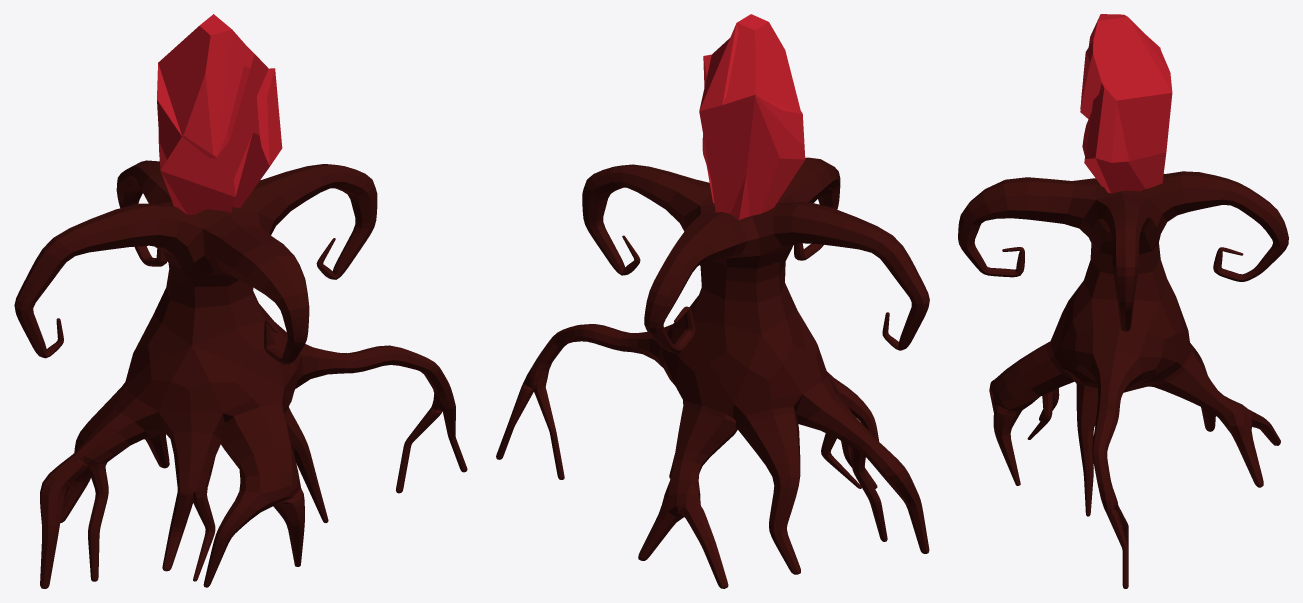
Rendered from arvorecristal2.fbx.
The picture shows the model from 3 angles, left to right: view 1: azimuth 30°, elevation 25°; view 2: azimuth 150°, elevation 25°; view 3: azimuth 270°, elevation 25°; orthographic projection. The views are drawn at different scales.
Parts seen in each view (by area): view 1: tronco.001; view 2: tronco.001; view 3: tronco.001.
Boxes of the visible parts, bbox=[...] form: tronco.001: bbox=[14, 14, 467, 588]; tronco.001: bbox=[496, 14, 929, 588]; tronco.001: bbox=[958, 14, 1288, 588].
Size of the model in its own units: 1065 by 1178 by 755.
